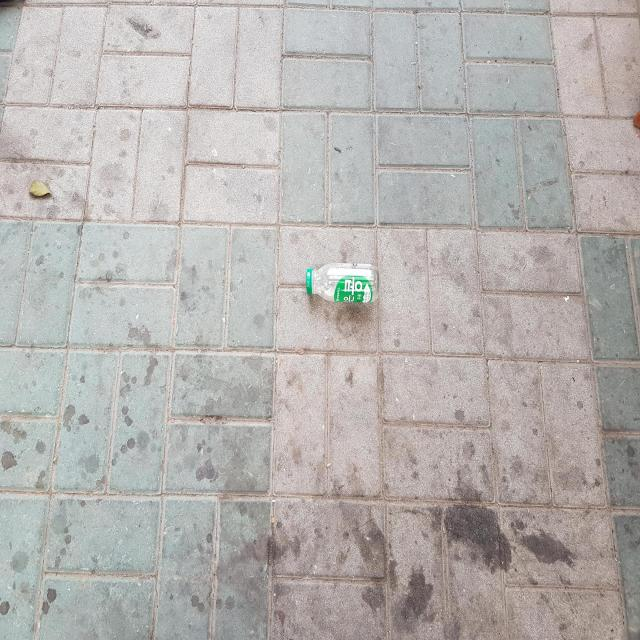glass: (306, 263, 379, 302)
